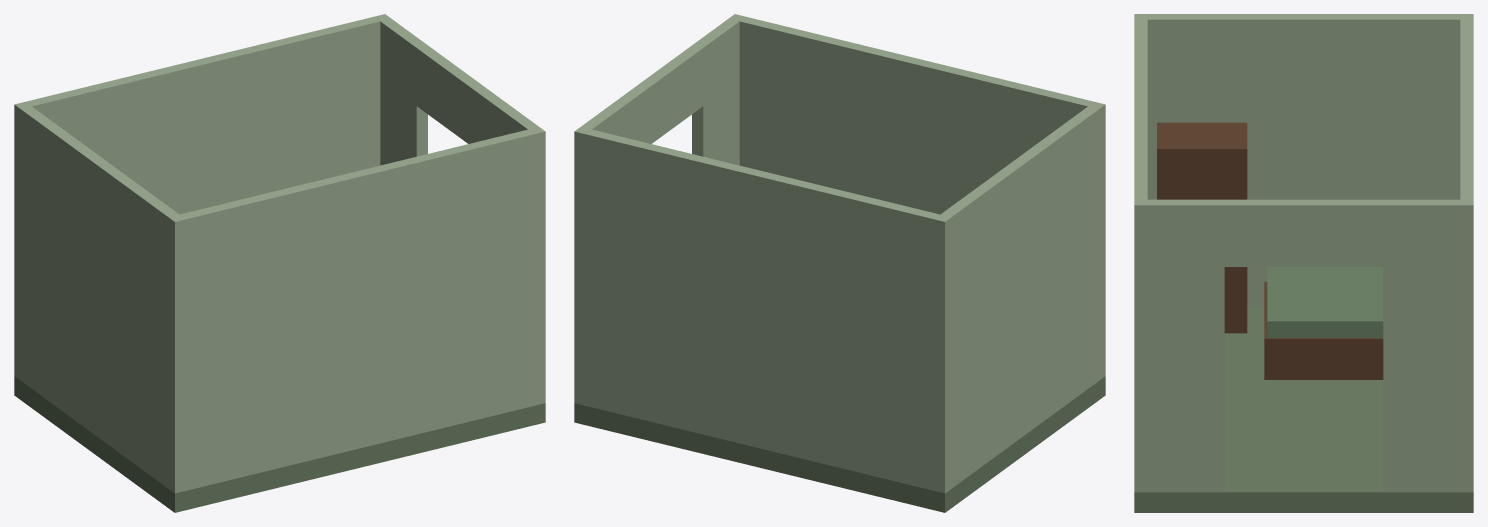
Rendered from room-2.glb.
3 views of the same model, side by side, from view 1: azimuth 30°, elevation 25°; view 2: azimuth 150°, elevation 25°; view 3: azimuth 270°, elevation 25° (orthographic). The views are drawn at different scales.
Visible parts, largest first — view 1: Room 2 south wall end, Room 2 west wall end, Room 2 north wall end, Room 2 Floor, Room 2 east wall segment 1, Room 2 east wall door 1 lintel, Room 2 east wall end; view 2: Room 2 north wall end, Room 2 west wall end, Room 2 south wall end, Room 2 Floor, Room 2 east wall end, Room 2 east wall door 1 lintel, Room 2 east wall segment 1; view 3: Room 2 west wall end, Room 2 Floor, Room 2 east wall end, Room 2 east wall segment 1, Room 2 east wall door 1 lintel, Room 2 Wardrobe, Room 2 Mattress, Room 2 north wall end, Room 2 south wall end, Room 2 Bed frame.
Boxes of the visible parts, bbox=[...] form: Room 2 south wall end: bbox=[168, 127, 545, 493]; Room 2 west wall end: bbox=[14, 103, 185, 492]; Room 2 north wall end: bbox=[14, 14, 390, 380]; Room 2 Floor: bbox=[14, 376, 545, 512]; Room 2 east wall segment 1: bbox=[375, 14, 427, 165]; Room 2 east wall door 1 lintel: bbox=[416, 45, 502, 143]; Room 2 east wall end: bbox=[491, 100, 545, 405]; Room 2 north wall end: bbox=[574, 127, 951, 493]; Room 2 west wall end: bbox=[934, 104, 1105, 493]; Room 2 south wall end: bbox=[729, 14, 1105, 380]; Room 2 Floor: bbox=[574, 376, 1105, 512]; Room 2 east wall end: bbox=[692, 15, 744, 165]; Room 2 east wall door 1 lintel: bbox=[617, 45, 703, 143]; Room 2 east wall segment 1: bbox=[574, 100, 628, 400]; Room 2 west wall end: bbox=[1134, 14, 1473, 306]; Room 2 Floor: bbox=[1134, 307, 1473, 512]; Room 2 east wall end: bbox=[1134, 199, 1224, 492]; Room 2 east wall segment 1: bbox=[1383, 199, 1473, 492]; Room 2 east wall door 1 lintel: bbox=[1224, 199, 1383, 266]; Room 2 Wardrobe: bbox=[1157, 122, 1247, 333]; Room 2 Mattress: bbox=[1267, 267, 1383, 337]; Room 2 north wall end: bbox=[1460, 14, 1473, 492]; Room 2 south wall end: bbox=[1134, 14, 1147, 492]; Room 2 Bed frame: bbox=[1264, 281, 1383, 379].
Bounding box in the file's own units: 4 × 3 × 3.
